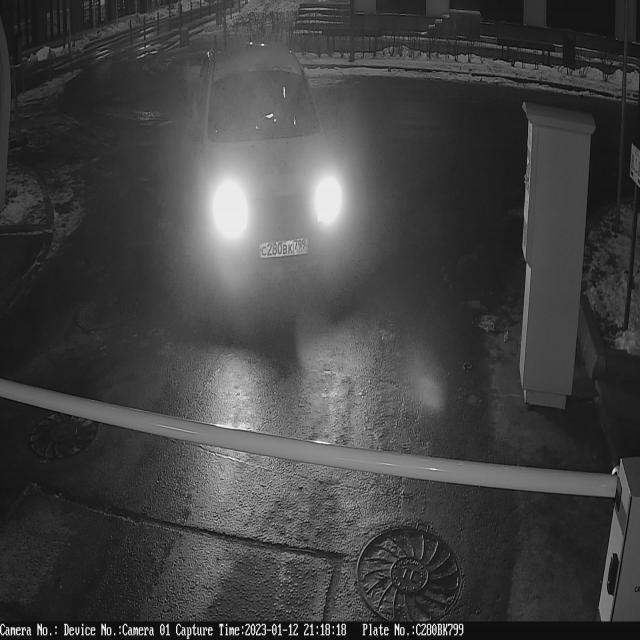car-plate-numbers: (259, 237, 311, 267)
